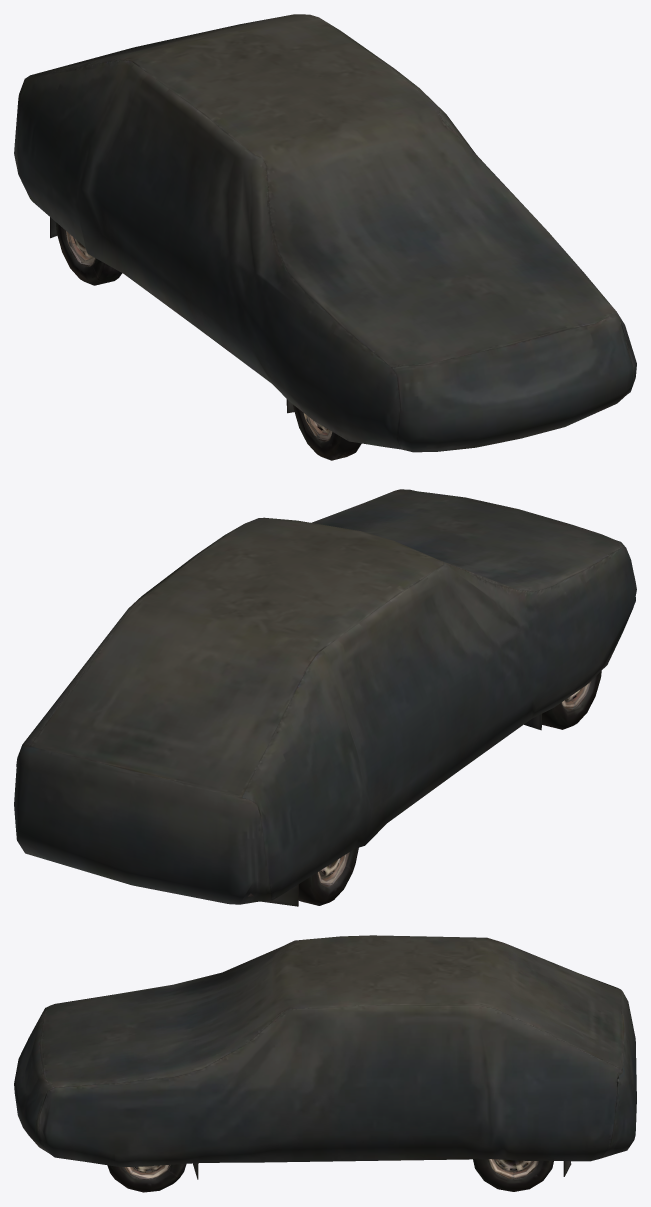
Rendered from covered_car.glb.
3 views of the same model, one above another, from view 1: azimuth 30°, elevation 25°; view 2: azimuth 150°, elevation 25°; view 3: azimuth 270°, elevation 25° (orthographic). The views are drawn at different scales.
Visible parts, largest first — view 1: covered_car_wheel_01; view 2: covered_car_wheel_01; view 3: covered_car_wheel_01.
Boxes of the visible parts, x1,y1,x2,y2 form: covered_car_wheel_01: (14, 14, 636, 460); covered_car_wheel_01: (14, 489, 636, 906); covered_car_wheel_01: (14, 935, 636, 1192).
Bounding box in the file's own units: 1.79 × 1.41 × 4.38.
1 material, 1 textured.
